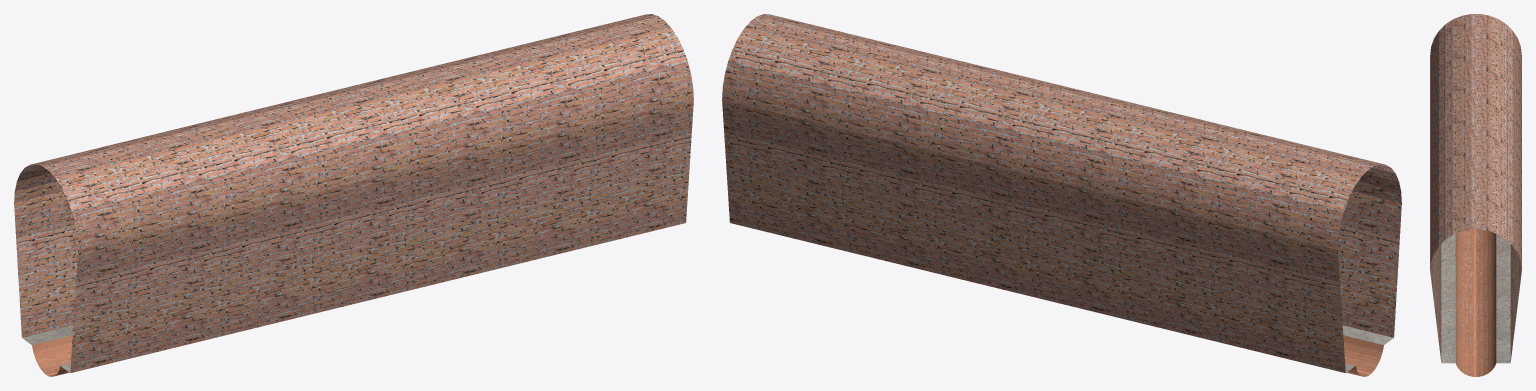
File: T114A_straight_5m.dae
3 views of the same model, side by side, from view 1: azimuth 30°, elevation 25°; view 2: azimuth 150°, elevation 25°; view 3: azimuth 270°, elevation 25° (orthographic). The views are drawn at different scales.
Visible parts, largest first — view 1: SketchUp (×2); view 2: SketchUp (×2); view 3: SketchUp (×4).
Part boxes in pixels (left/top/right/bottom): SketchUp (×2): left=14, top=14, right=693, bottom=376; SketchUp (×2): left=722, top=14, right=1401, bottom=376; SketchUp (×4): left=1430, top=14, right=1521, bottom=376.
Size of the model in its own units: 197 by 35.43 by 62.84.
